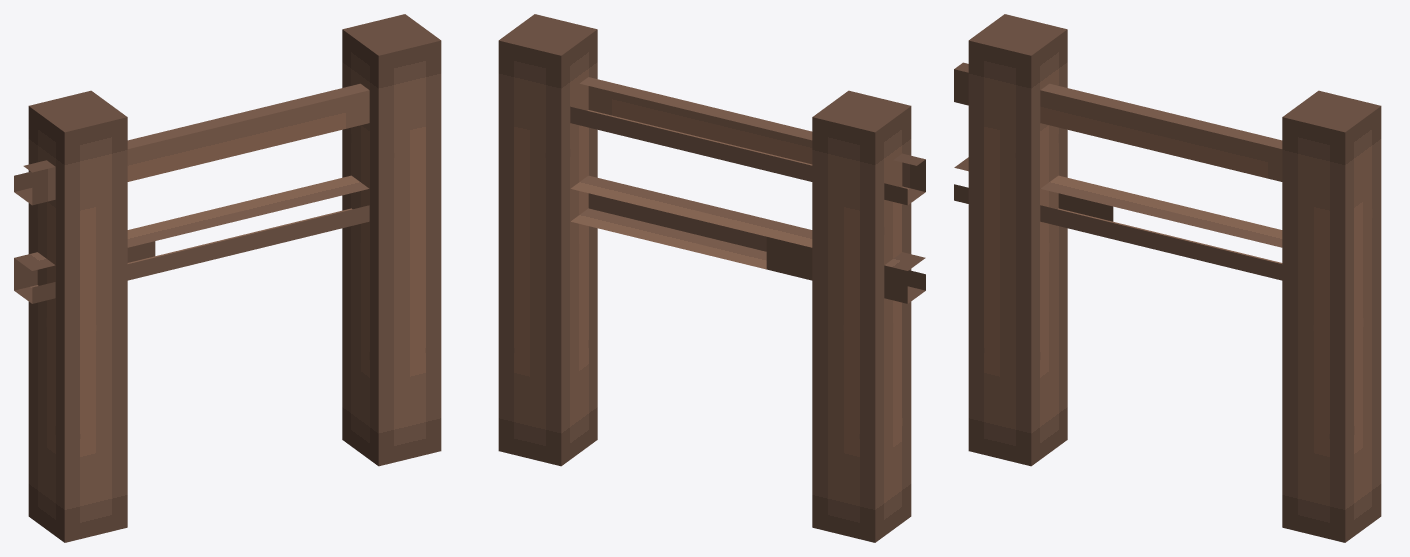
The model's file is fence.fbx.
The picture shows the model from 3 angles, left to right: view 1: azimuth 30°, elevation 25°; view 2: azimuth 150°, elevation 25°; view 3: azimuth 330°, elevation 25°; orthographic projection.
Visible parts, largest first — view 1: cuboid_3, cuboid, cuboid_1, cuboid_2; view 2: cuboid_3, cuboid, cuboid_2, cuboid_1; view 3: cuboid_3, cuboid, cuboid_1, cuboid_2.
Part boxes in pixels (bbox=[...]): cuboid_3: bbox=[342, 14, 441, 466]; cuboid: bbox=[28, 90, 127, 542]; cuboid_1: bbox=[14, 83, 369, 205]; cuboid_2: bbox=[14, 175, 369, 303]; cuboid_3: bbox=[498, 14, 597, 466]; cuboid: bbox=[812, 90, 911, 542]; cuboid_2: bbox=[570, 175, 925, 303]; cuboid_1: bbox=[570, 77, 925, 205]; cuboid_3: bbox=[1282, 90, 1381, 542]; cuboid: bbox=[968, 14, 1067, 466]; cuboid_1: bbox=[954, 62, 1282, 181]; cuboid_2: bbox=[954, 157, 1282, 280].
Size of the model in its own units: 169 by 156 by 25.
2 materials, 2 textured.
